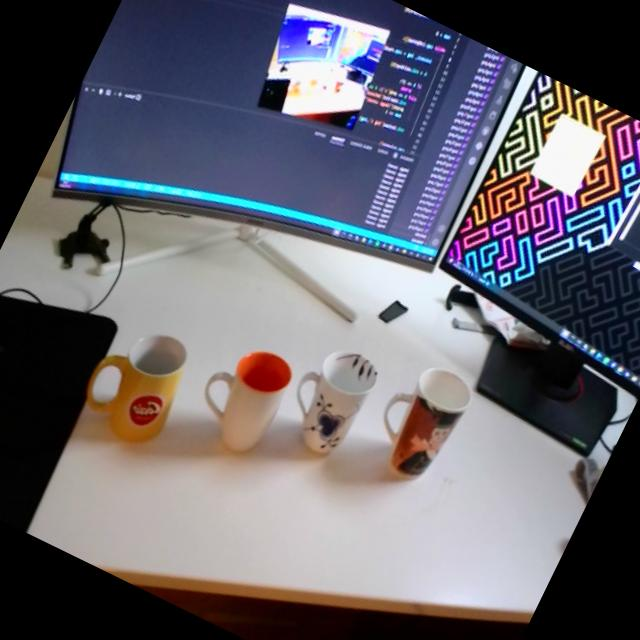Cocio Cup: (72, 312, 200, 454)
Halloween cup: (361, 351, 479, 489)
Hand painted cup: (271, 334, 382, 464)
White Cup: (184, 332, 298, 460)
